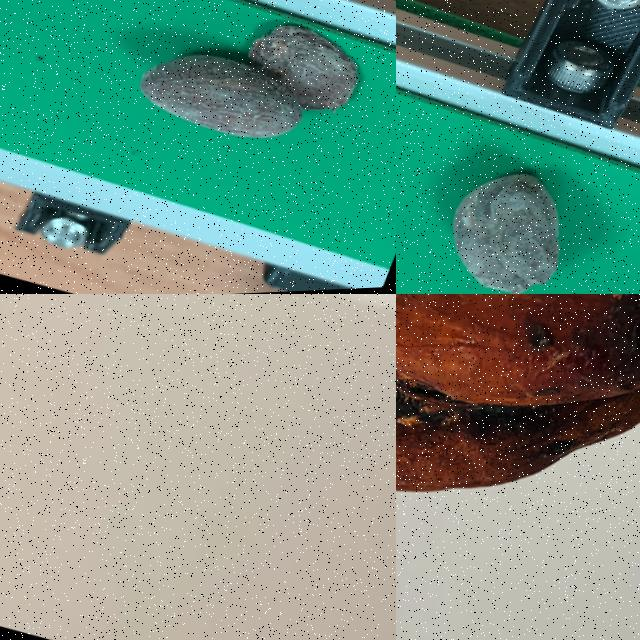Agglomerated_cocoabeans: (18, 0, 395, 234), (396, 294, 639, 606), (396, 70, 639, 293)
